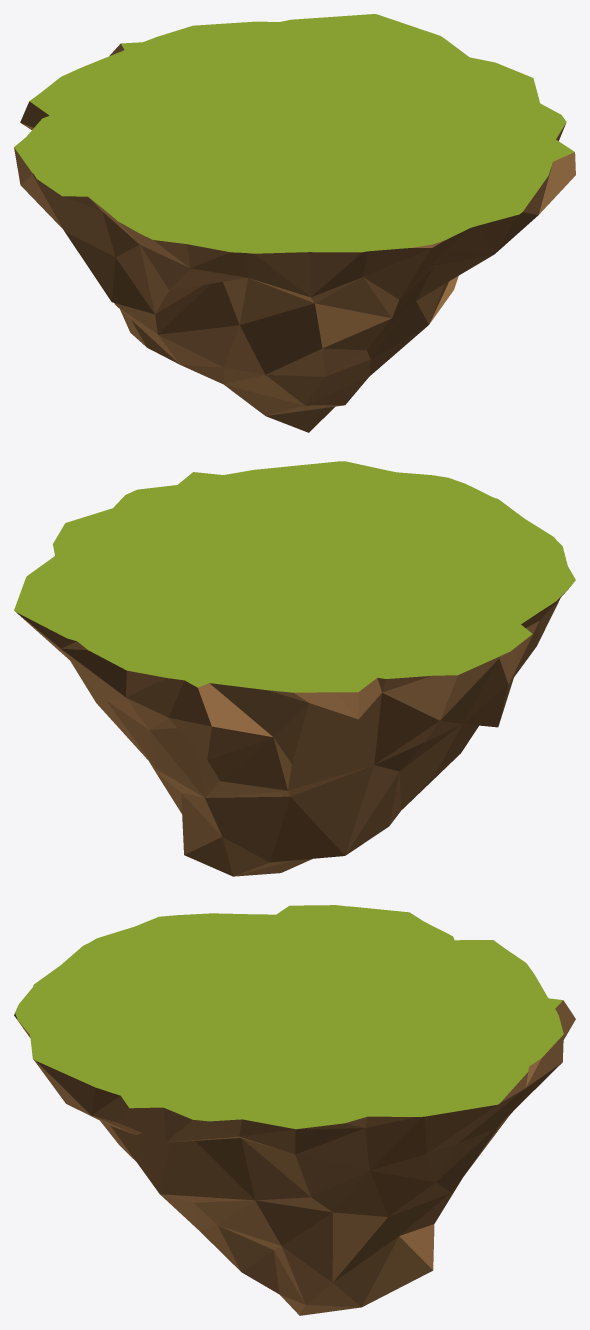
File: island.fbx
The picture shows the model from 3 angles, top to bottom: view 1: azimuth 30°, elevation 25°; view 2: azimuth 150°, elevation 25°; view 3: azimuth 270°, elevation 25°; orthographic projection. The views are drawn at different scales.
Parts seen in each view (by area): view 1: Cube, Sphère; view 2: Cube, Sphère; view 3: Cube, Sphère.
Boxes of the visible parts, <box> form: Cube: <box>14,14,574,253</box>; Sphère: <box>14,43,575,432</box>; Cube: <box>14,461,575,692</box>; Sphère: <box>15,589,568,876</box>; Cube: <box>15,905,563,1129</box>; Sphère: <box>14,1000,575,1315</box>.
Bounding box in the file's own units: 480 × 291 × 508.
